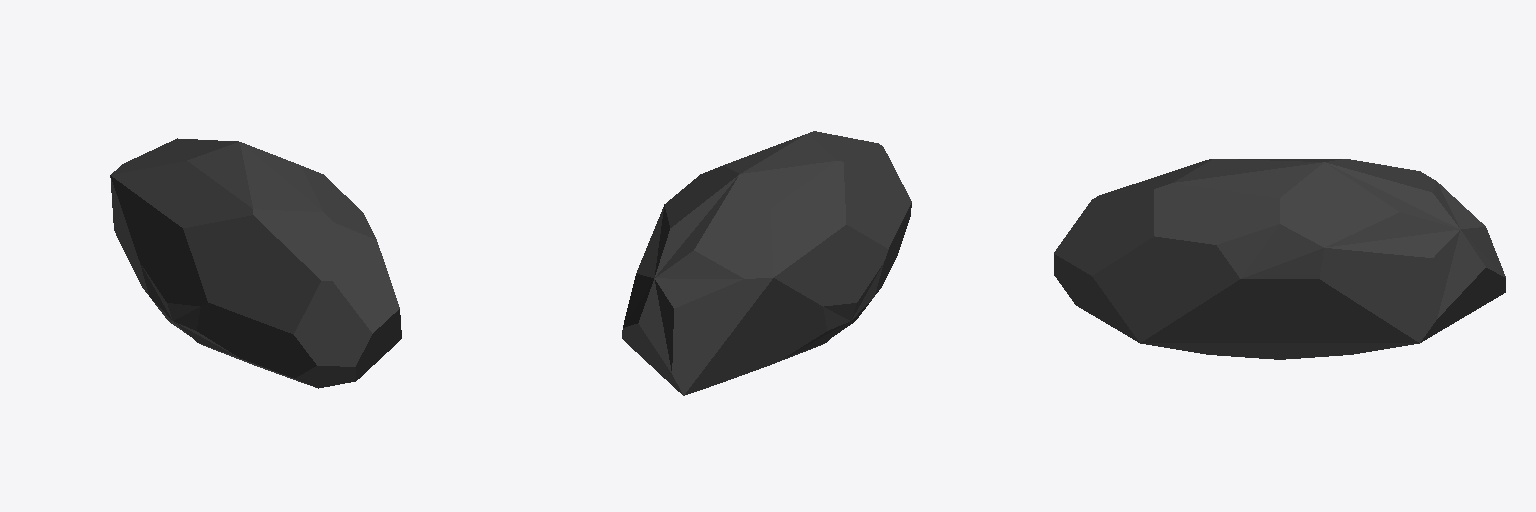
The model's file is Rock1.obj.
3 views of the same model, side by side, from view 1: azimuth 30°, elevation 25°; view 2: azimuth 150°, elevation 25°; view 3: azimuth 270°, elevation 25° (orthographic).
Parts seen in each view (by area): view 1: Icosphere.001_Icosphere.002; view 2: Icosphere.001_Icosphere.002; view 3: Icosphere.001_Icosphere.002.
Part boxes in pixels (x1,y1,x2,y2): Icosphere.001_Icosphere.002: (110, 138, 401, 388); Icosphere.001_Icosphere.002: (622, 131, 911, 395); Icosphere.001_Icosphere.002: (1054, 159, 1505, 359).
Size of the model in its own units: 1.7 by 1.76 by 3.74.